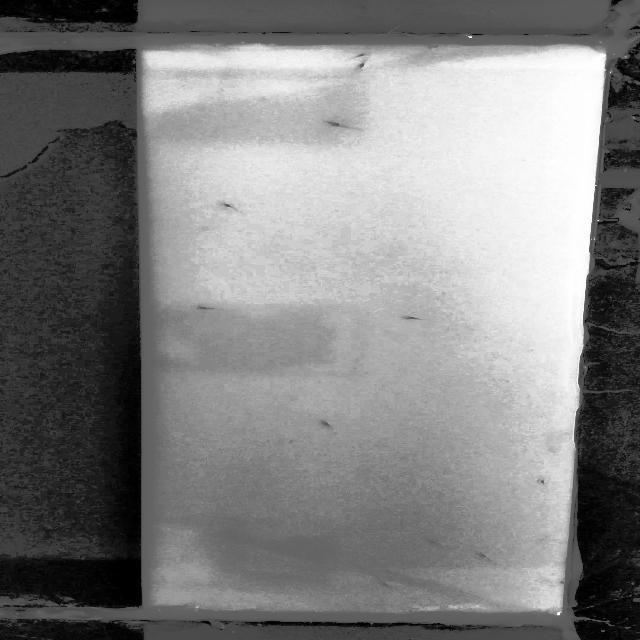shrimp: (324, 120, 365, 131), (192, 303, 227, 314), (399, 314, 434, 324), (221, 198, 242, 212), (475, 551, 499, 563), (421, 538, 448, 548), (350, 49, 373, 60), (317, 417, 333, 429), (354, 59, 370, 71), (537, 476, 549, 490), (377, 581, 393, 589)
